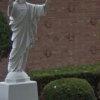Statue: (5, 1, 55, 82)
